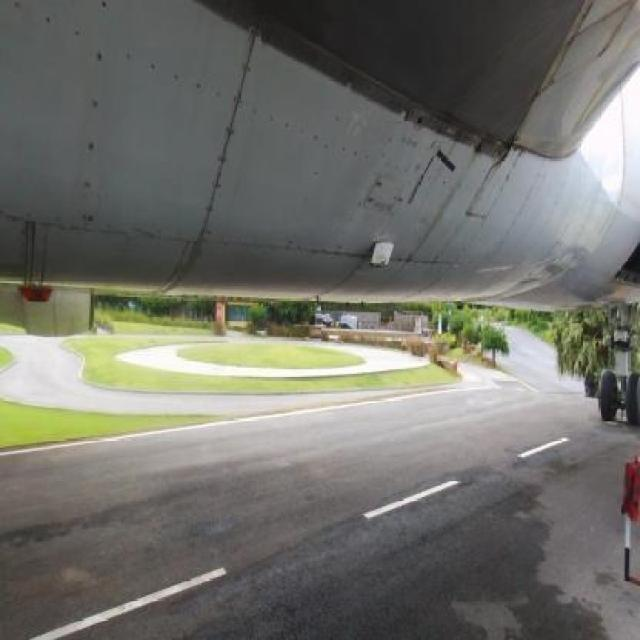Missing-Rivet: (44, 223, 350, 272), (116, 36, 227, 110), (239, 96, 346, 156), (78, 48, 104, 224), (353, 119, 430, 178), (4, 1, 108, 39), (324, 61, 396, 110), (294, 164, 334, 225), (239, 21, 276, 81), (340, 177, 375, 220), (434, 167, 478, 201), (388, 252, 449, 273)
